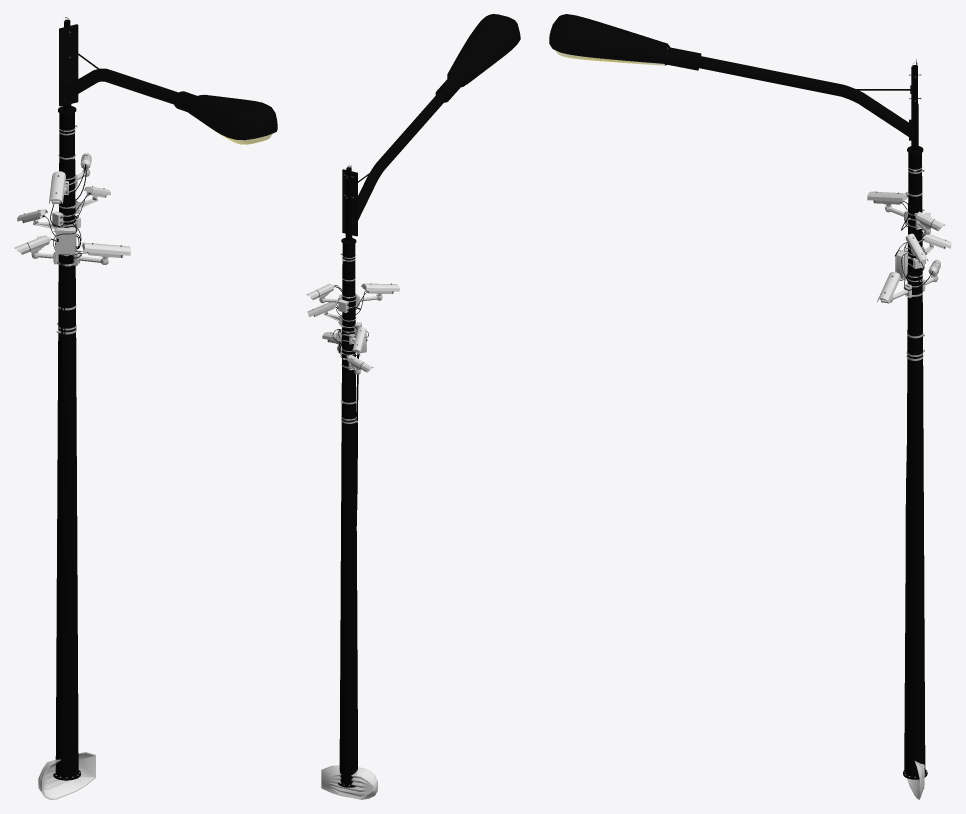
Rendered from street-light-1.glb.
3 renders of one model, left to right at view 1: azimuth 30°, elevation 25°; view 2: azimuth 150°, elevation 25°; view 3: azimuth 270°, elevation 25°, orthographic. The views are drawn at different scales.
Parts seen in each view (by area): view 1: Object_2; view 2: Object_2; view 3: Object_2.
Part boxes in pixels (x1,y1,x2,y2): Object_2: (14, 17, 277, 799); Object_2: (306, 14, 520, 799); Object_2: (549, 14, 951, 799).
Bounding box in the file's own units: 1 × 9 × 4.25.
12 materials, 1 textured.
